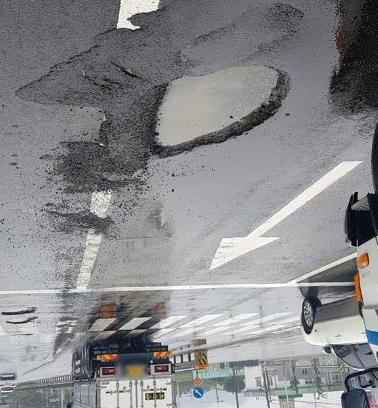pothole: (144, 62, 305, 172), (0, 301, 37, 318), (4, 316, 44, 328)
